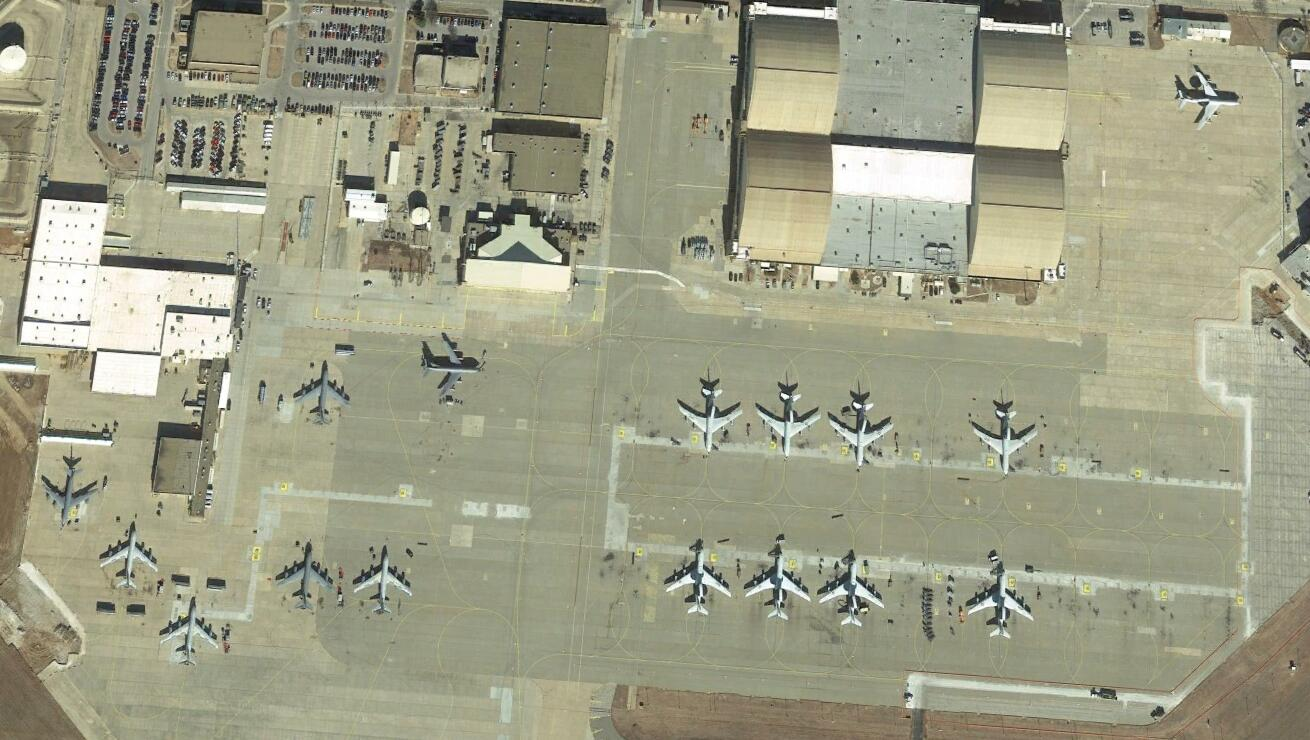A11: (160, 595, 220, 668), (352, 551, 414, 615), (100, 523, 160, 588)
A14: (39, 466, 102, 530), (420, 338, 482, 402), (295, 359, 355, 422), (278, 544, 335, 609)
A7: (818, 554, 887, 629), (664, 545, 734, 618), (674, 386, 746, 456), (970, 409, 1043, 477), (827, 401, 898, 470), (743, 548, 812, 619), (968, 569, 1034, 641), (757, 390, 823, 456), (1174, 70, 1245, 130)
